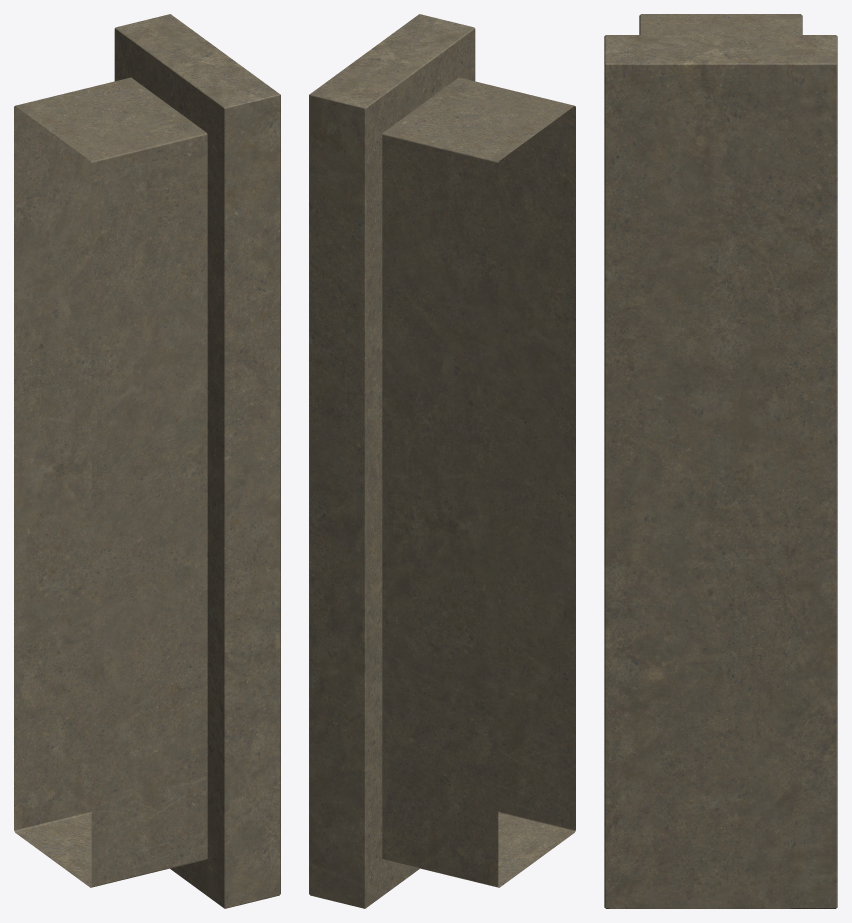
The model's file is cP_Bench11_Straight.dae.
3 renders of one model, left to right at view 1: azimuth 30°, elevation 25°; view 2: azimuth 150°, elevation 25°; view 3: azimuth 270°, elevation 25°, orthographic. The views are drawn at different scales.
Visible parts, largest first — view 1: cP_Bench11_Straight.001; view 2: cP_Bench11_Straight.001; view 3: cP_Bench11_Straight.001.
Boxes of the visible parts, x1,y1,x2,y2 form: cP_Bench11_Straight.001: (14, 14, 280, 908); cP_Bench11_Straight.001: (309, 14, 575, 908); cP_Bench11_Straight.001: (604, 14, 837, 908).
Size of the model in its own units: 0.4531 by 0.5 by 2.
